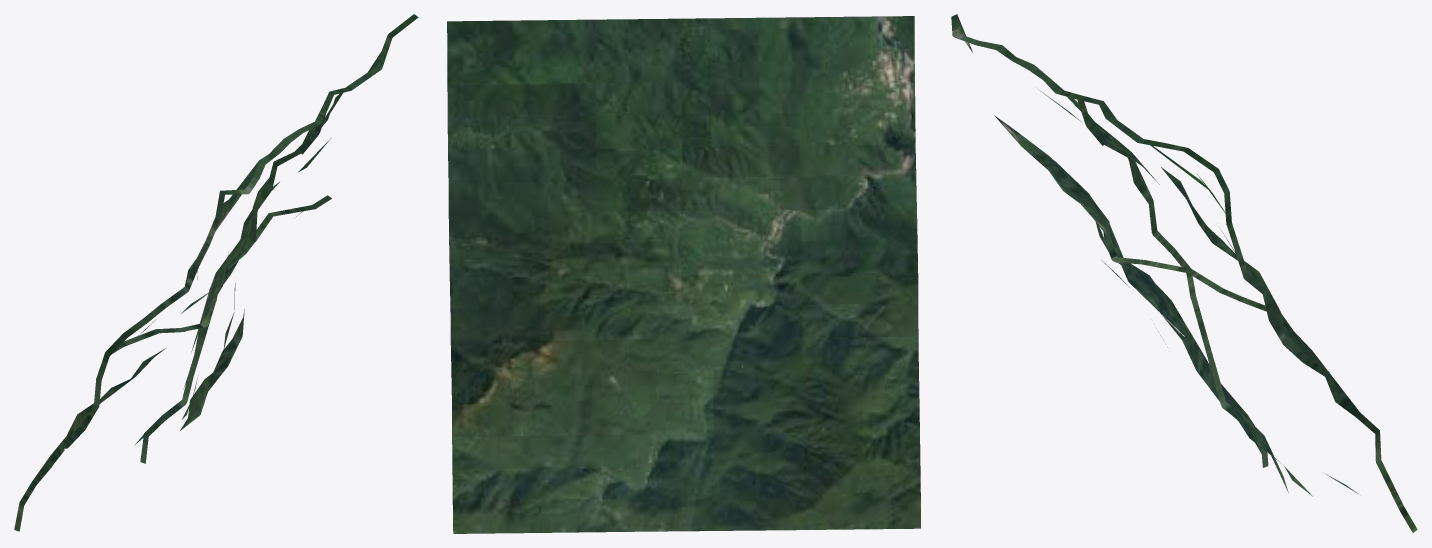
3 renders of one model, left to right at view 1: azimuth 30°, elevation 25°; view 2: azimuth 150°, elevation 25°; view 3: azimuth 270°, elevation 25°, orthographic. The views are drawn at different scales.
Bounding box in the file's own units: 9913 × 9128 × 8912.
Materials: 1 (1 with a texture image).
